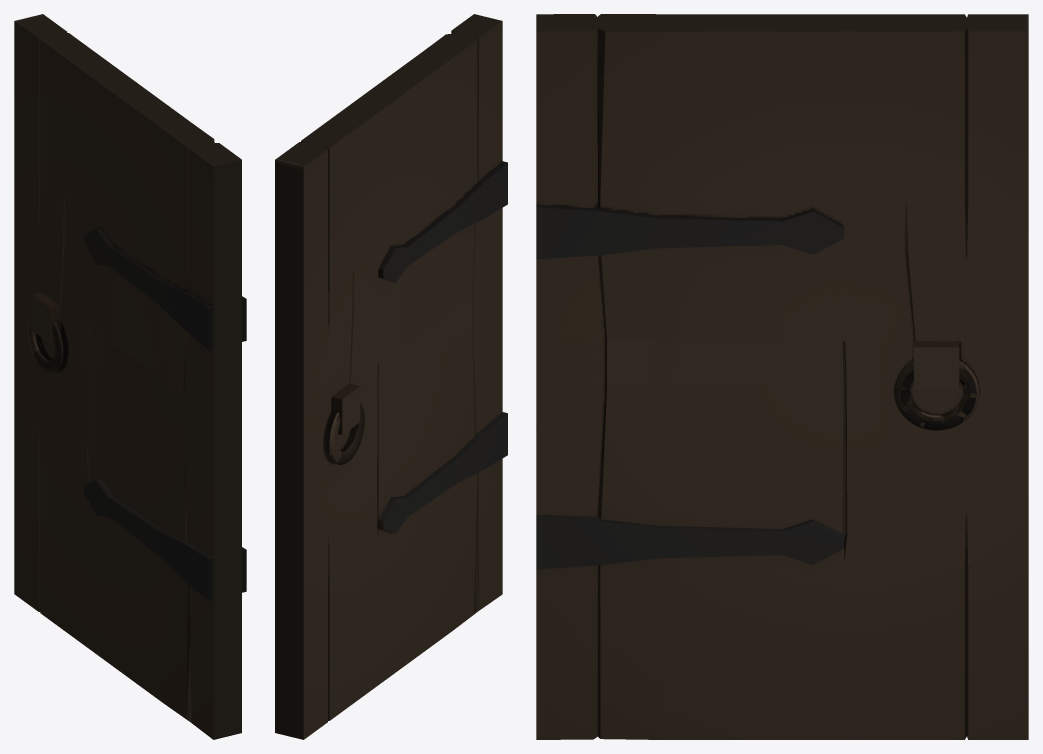
Rendered from DoorNew.fbx.
3 views of the same model, side by side, from view 1: azimuth 30°, elevation 25°; view 2: azimuth 150°, elevation 25°; view 3: azimuth 270°, elevation 25° (orthographic). The views are drawn at different scales.
Parts seen in each view (by area): view 1: Cube, Torus; view 2: Cube, Torus; view 3: Cube, Torus.001.
Part boxes in pixels (x1,y1,x2,y2): Cube: [14, 14, 246, 739]; Torus: [27, 311, 63, 373]; Cube: [275, 14, 507, 739]; Torus: [329, 403, 364, 464]; Cube: [536, 14, 1028, 739]; Torus.001: [894, 360, 978, 430].
Size of the model in its own units: 108 by 1214 by 764.
